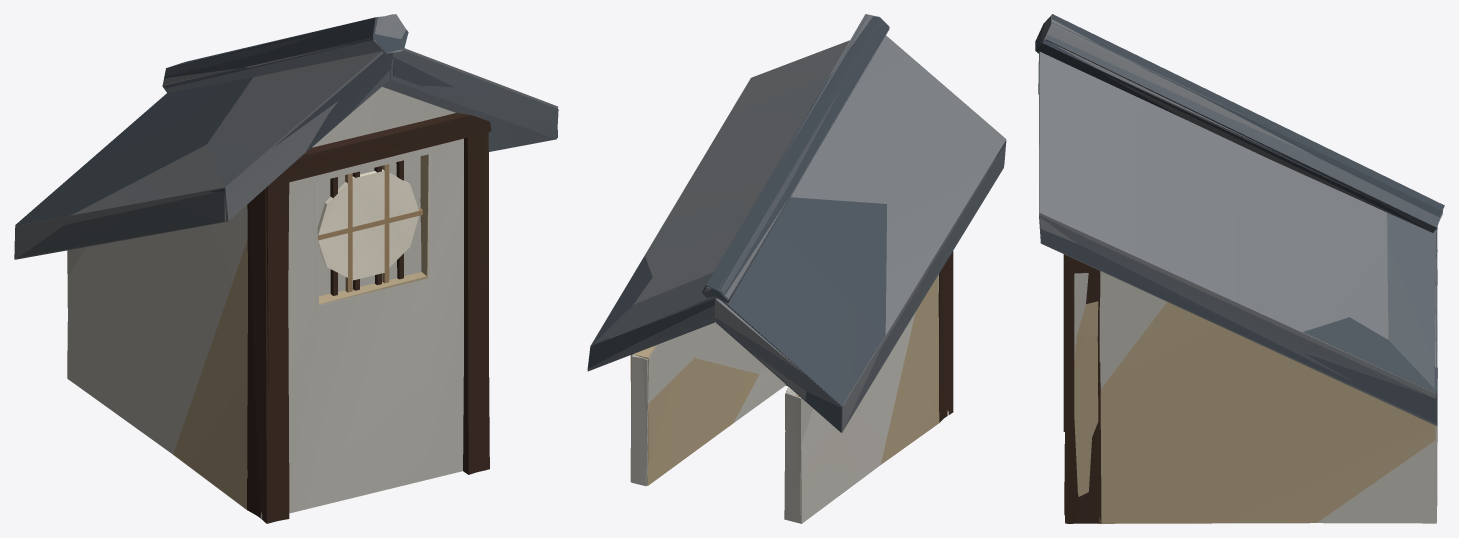
Rendered from dormer.glb.
3 renders of one model, left to right at view 1: azimuth 30°, elevation 25°; view 2: azimuth 150°, elevation 25°; view 3: azimuth 270°, elevation 25°, orthographic. The views are drawn at different scales.
Visible parts, largest first — view 1: dormer.v2.mesh, dormer.v0.mesh, dormer.v1.mesh; view 2: dormer.v2.mesh, dormer.v1.mesh, dormer.v0.mesh; view 3: dormer.v1.mesh, dormer.v2.mesh, dormer.v0.mesh.
Part boxes in pixels (x1,y1,x2,y2): dormer.v2.mesh: (14,14,557,521); dormer.v0.mesh: (18,14,558,519); dormer.v1.mesh: (14,16,557,523); dormer.v2.mesh: (592,14,1006,523); dormer.v1.mesh: (587,16,1006,485); dormer.v0.mesh: (587,14,1005,523); dormer.v1.mesh: (1035,14,1444,523); dormer.v2.mesh: (1035,15,1442,523); dormer.v0.mesh: (1037,22,1442,523).
Bounding box in the file's own units: 0.8479 × 1.18 × 0.9636.
